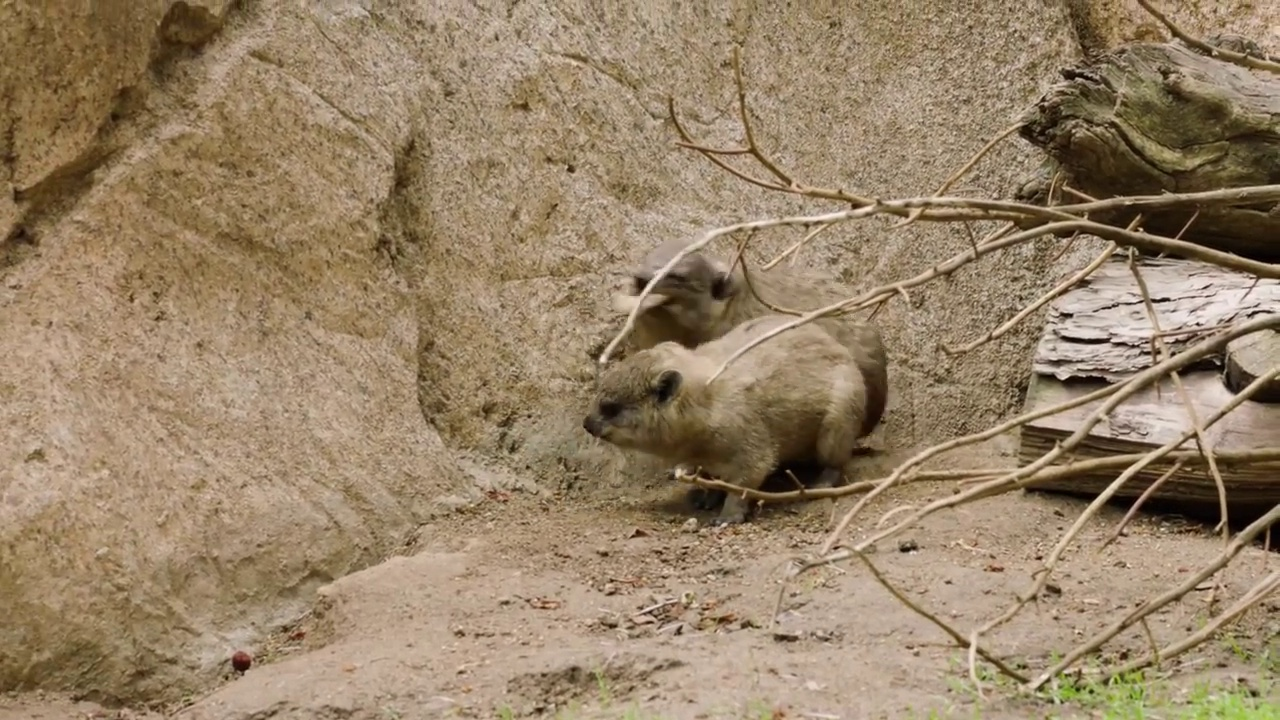Rock Hyrex: (589, 310, 867, 514), (633, 247, 885, 443)
